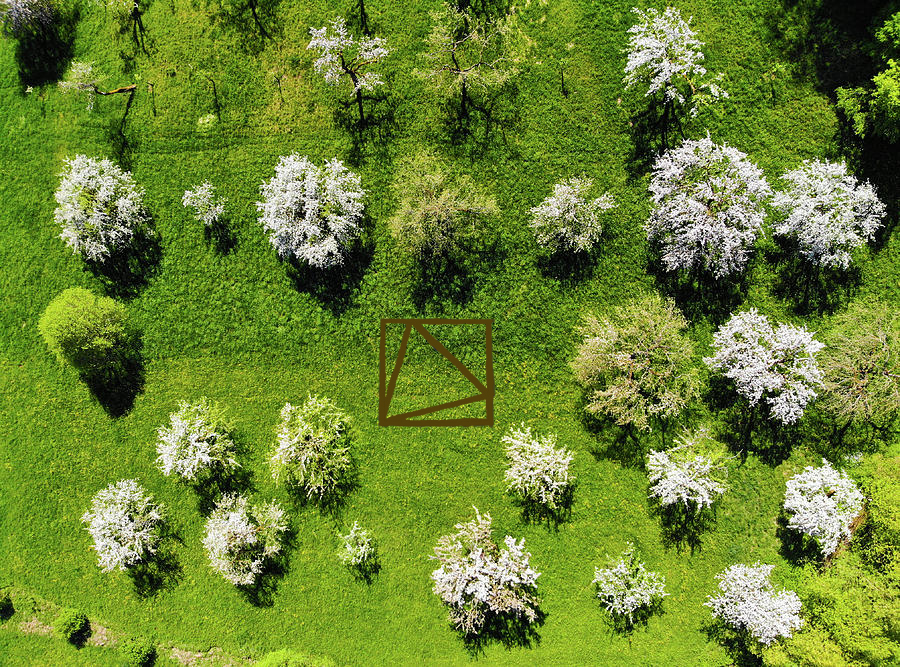marker: (376, 315, 495, 430)
